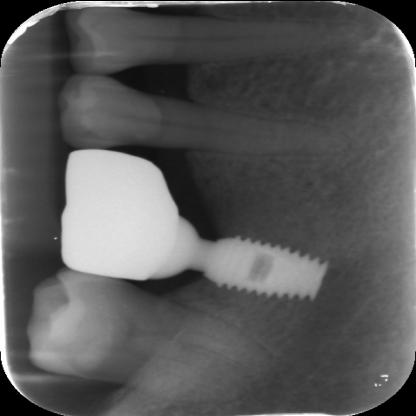Bicon: (197, 225, 332, 307)
